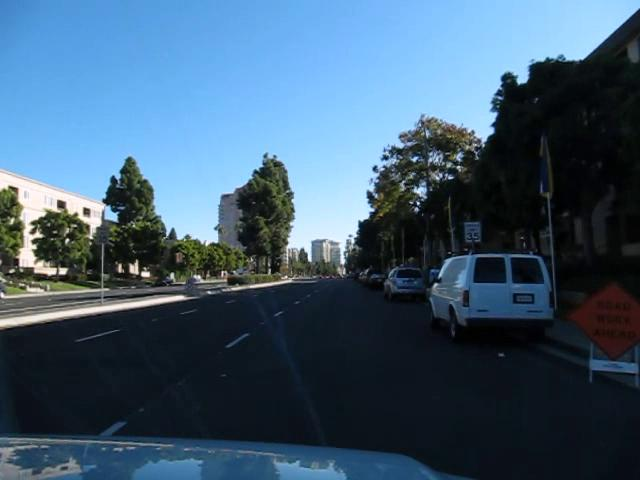speedLimit35: (463, 221, 481, 243)
